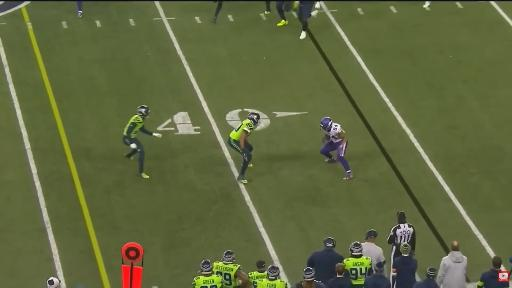Helmet: (349, 241, 363, 255), (221, 250, 235, 264), (200, 260, 213, 274), (267, 265, 280, 279), (248, 112, 260, 126), (320, 117, 332, 130), (136, 106, 149, 117)
Jersey: (343, 256, 373, 285), (214, 262, 241, 287), (230, 120, 254, 140), (124, 115, 144, 138), (193, 274, 222, 287), (325, 123, 344, 142), (248, 271, 266, 287), (257, 279, 287, 287)
Player: (123, 106, 161, 178), (228, 112, 260, 183), (320, 117, 352, 179), (343, 242, 373, 287), (214, 251, 248, 287), (193, 260, 222, 287), (298, 2, 318, 39), (257, 265, 287, 287), (276, 2, 298, 26), (248, 260, 266, 287), (214, 1, 222, 23), (77, 2, 82, 18), (264, 2, 270, 14), (424, 2, 430, 7)
